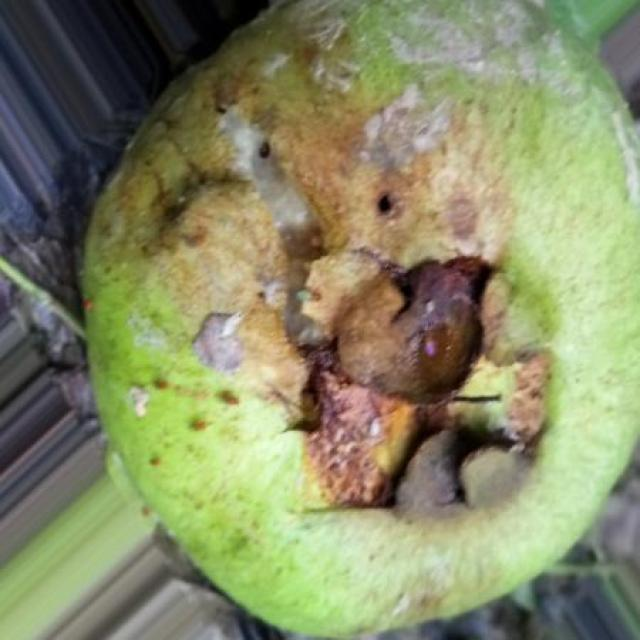Styler and Root: (85, 0, 640, 636)
